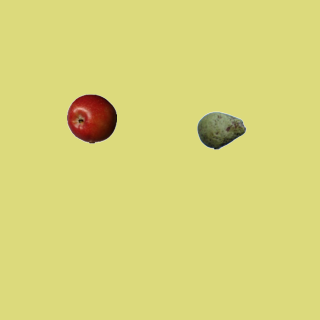Apple Braeburn: (66, 93, 116, 143)
Pear Stone: (196, 105, 246, 155)
